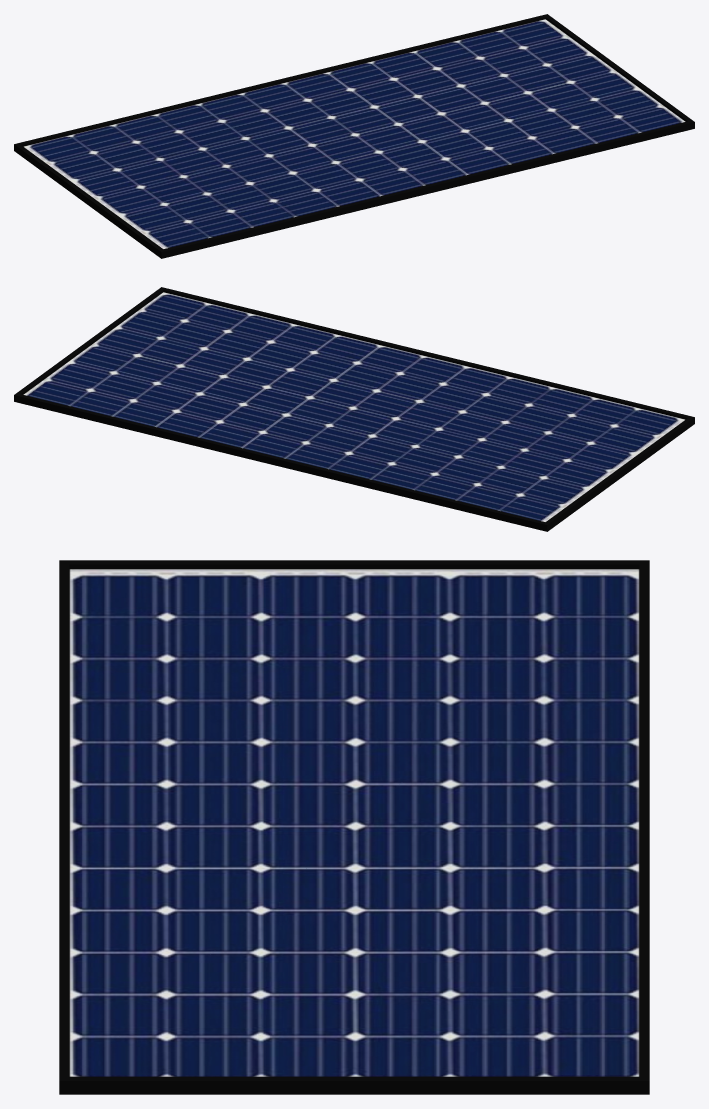
The model's file is solar_panel.glb.
The picture shows the model from 3 angles, top to bottom: view 1: azimuth 30°, elevation 25°; view 2: azimuth 150°, elevation 25°; view 3: azimuth 270°, elevation 25°; orthographic projection. The views are drawn at different scales.
Visible parts, largest first — view 1: Object_2; view 2: Object_2; view 3: Object_2.
Part boxes in pixels (left/top/right/bottom): Object_2: left=14, top=14, right=694, bottom=258; Object_2: left=14, top=287, right=694, bottom=531; Object_2: left=59, top=560, right=649, bottom=1094.
Size of the model in its own units: 433 by 11.28 by 207.
1 material, 1 textured.
